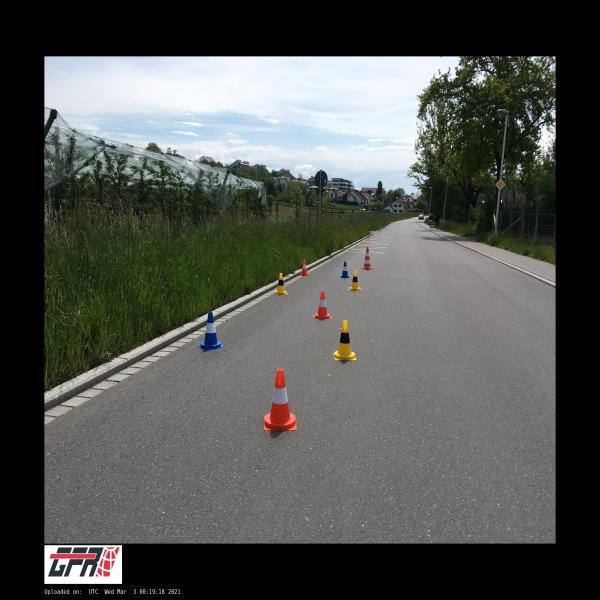blue_cone: (197, 311, 225, 350), (340, 261, 350, 278)
large_orange_cone: (361, 247, 373, 269)
orange_cone: (264, 369, 296, 431), (312, 290, 332, 320), (300, 259, 309, 276)
yellow_cone: (333, 320, 356, 361), (274, 273, 288, 295), (348, 270, 362, 290)
